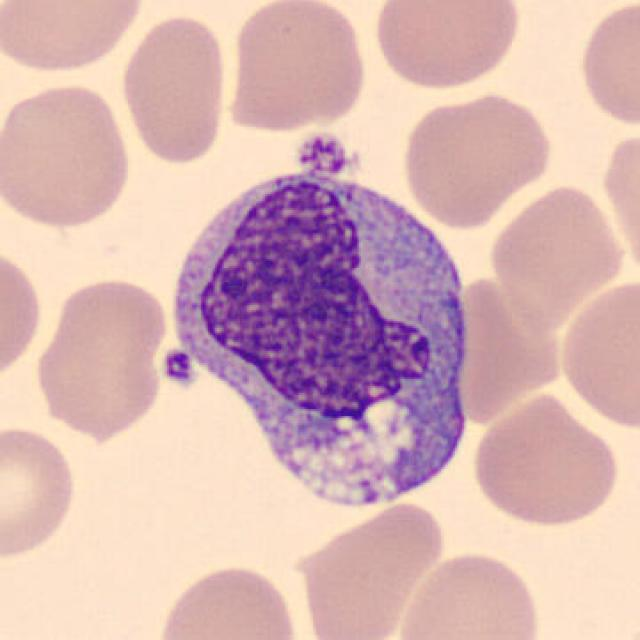Monocyte: (158, 150, 480, 522)
Platelets: (293, 129, 354, 178), (158, 346, 198, 390)
RBC: (31, 273, 172, 441), (289, 499, 452, 640), (398, 86, 556, 230), (468, 390, 622, 530), (220, 0, 372, 136), (0, 78, 135, 231), (486, 180, 630, 307), (116, 9, 231, 167), (367, 0, 524, 93), (393, 548, 546, 640), (554, 275, 640, 432), (151, 559, 304, 640), (0, 0, 149, 77), (0, 422, 80, 562), (574, 0, 638, 130), (597, 125, 640, 282), (0, 243, 46, 386)
